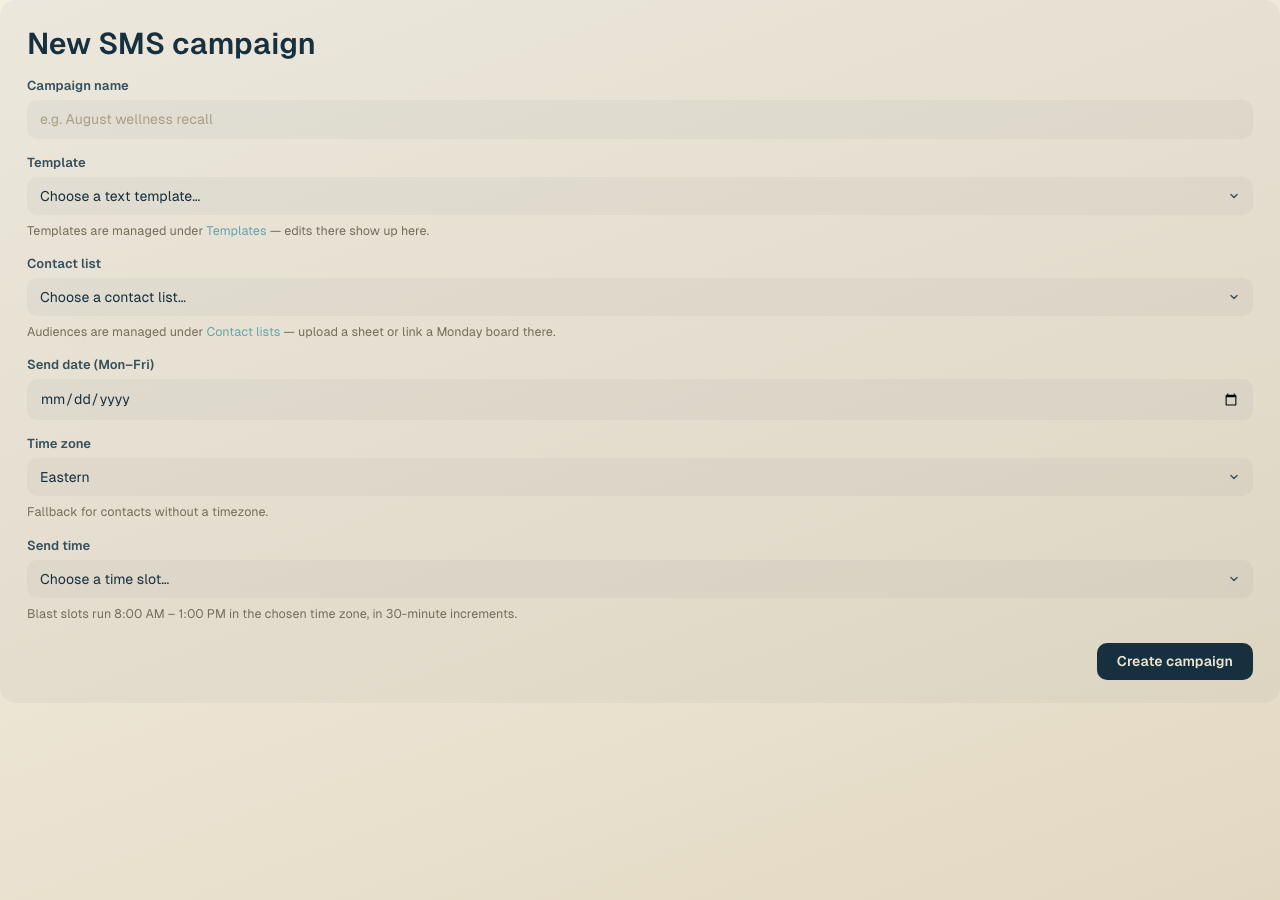
Test: NewCampaignForm › blocks submit until a contact list is chosen
This screenshot has width=1280, height=900.
Type "August recall" into the field labelled "Campaign name".
click(640, 119); type("August recall")  # box [27, 100, 1253, 138]
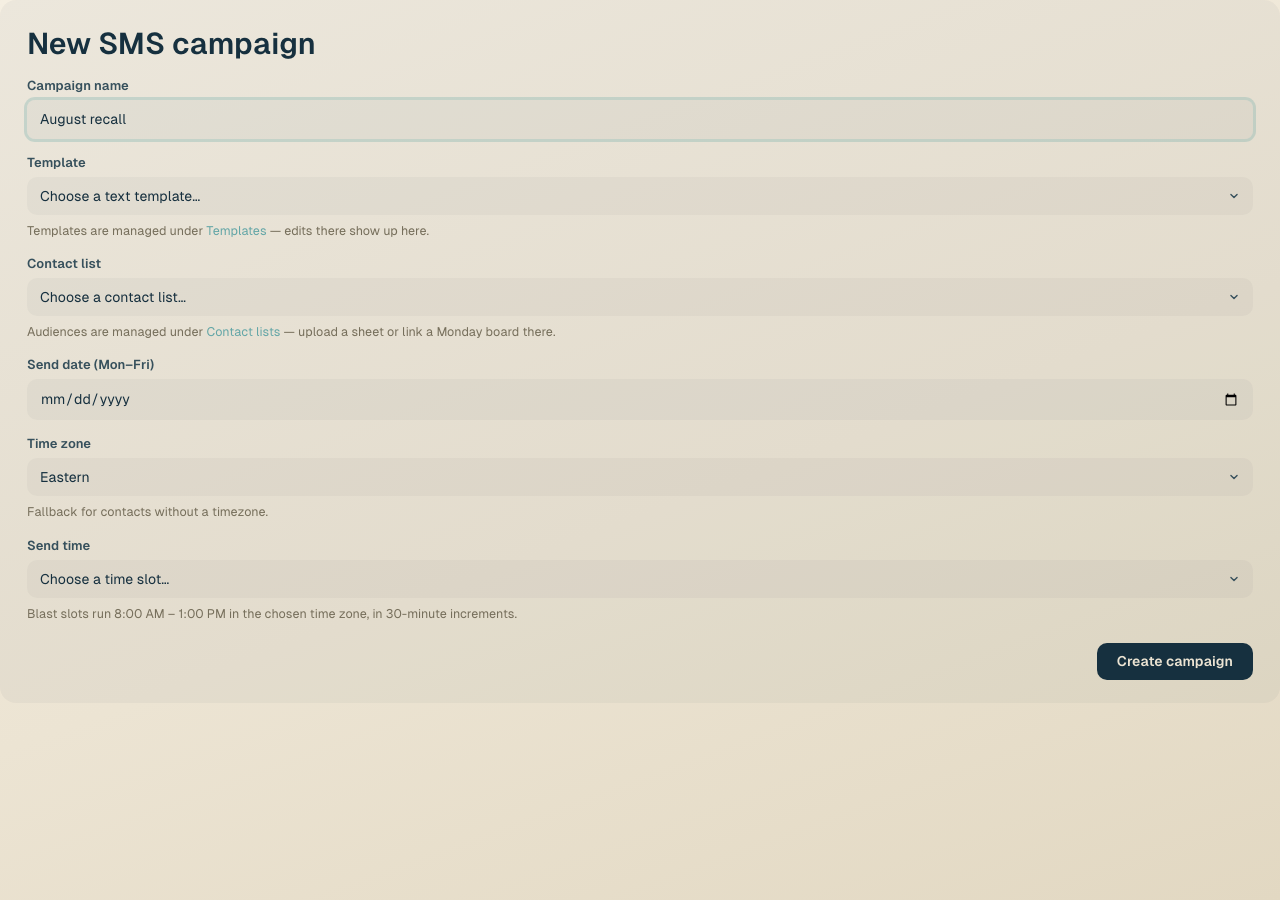
Select "Checkup reminder" in the dropdown labelled "Template" at (640, 196), box [27, 176, 1253, 214]
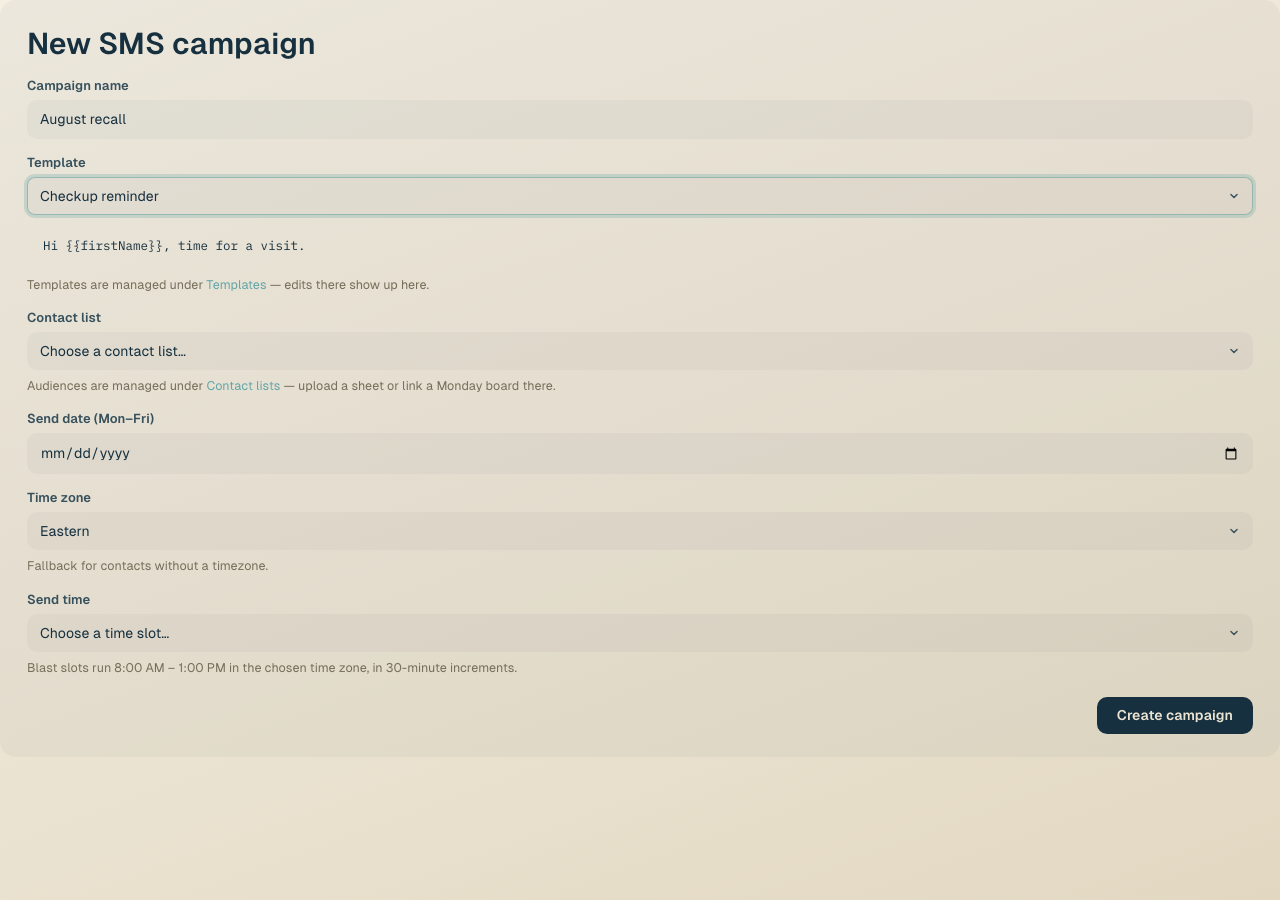
Click the button "Create campaign".
click(1175, 716)  # box [1097, 697, 1253, 734]
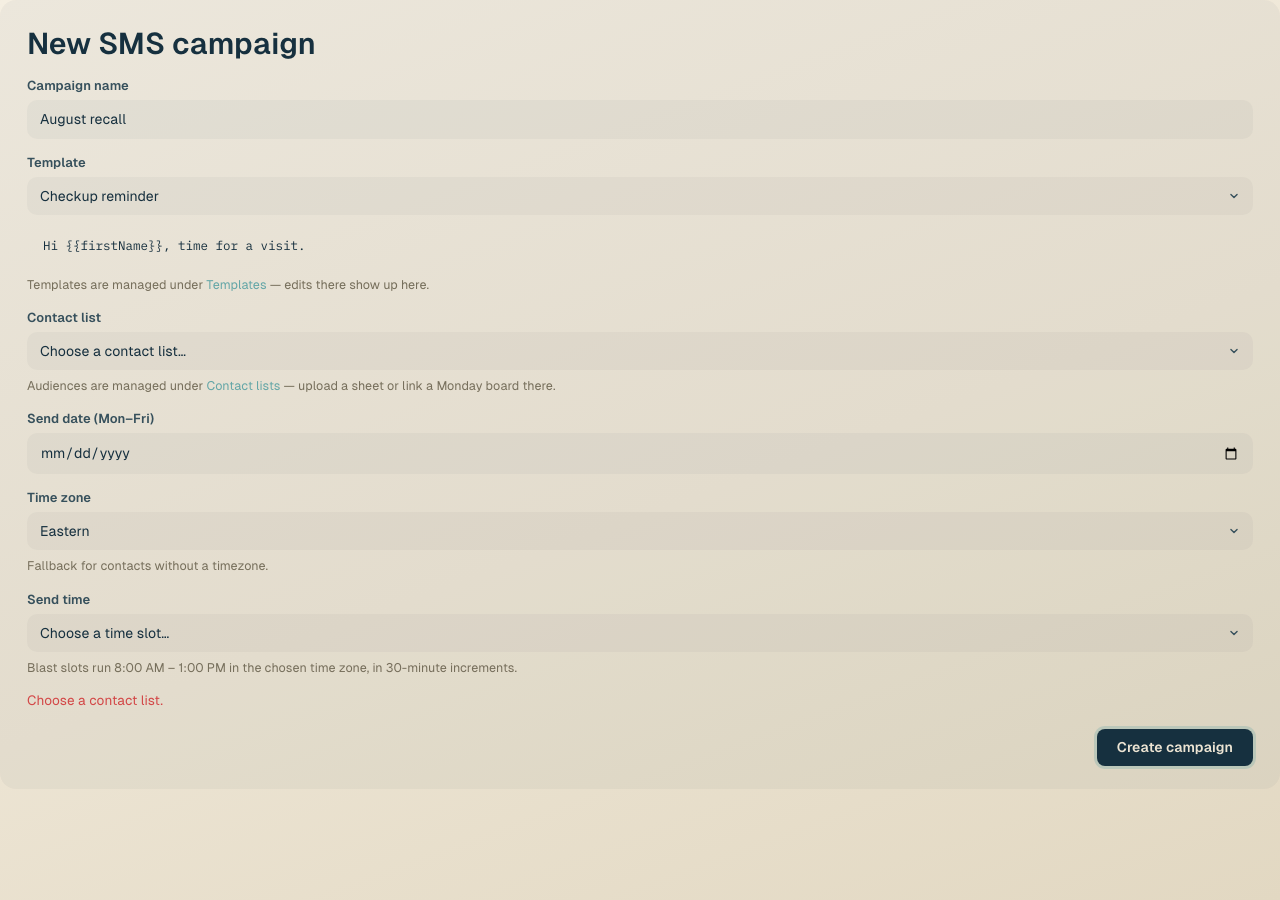
Check: the message shows "Choose a contact list", box [27, 693, 163, 708]
